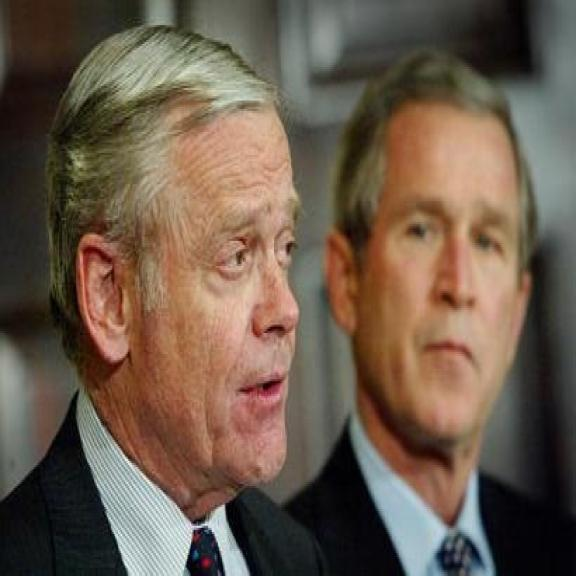face: (67, 111, 294, 489), (328, 101, 534, 450)
